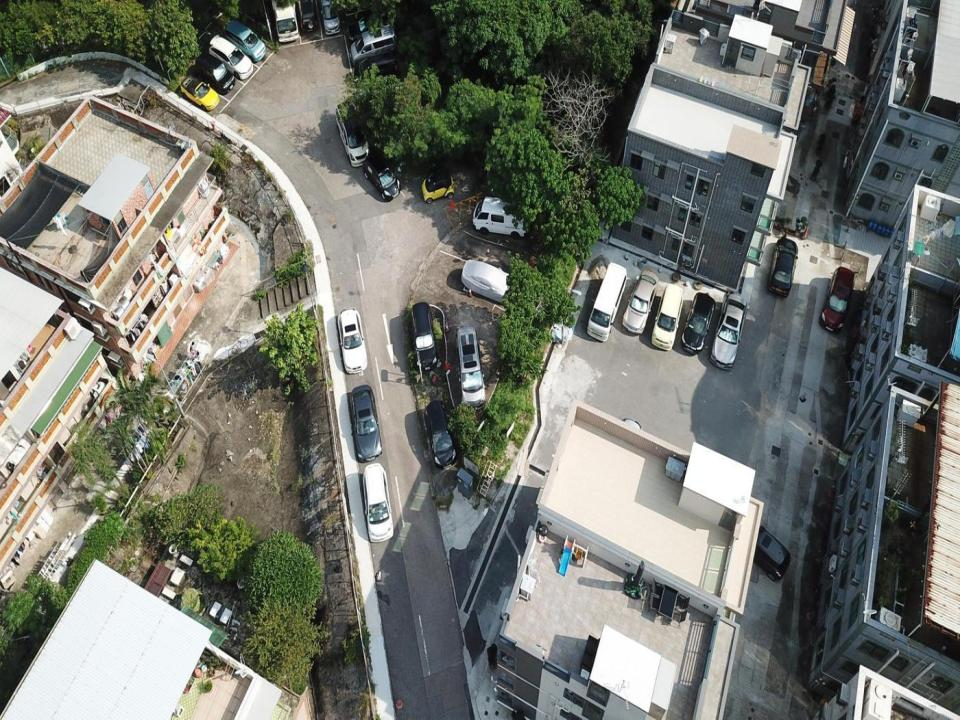bus: (587, 261, 627, 342)
car: (461, 258, 525, 305), (709, 292, 747, 370), (455, 325, 487, 411), (471, 195, 532, 240), (362, 462, 394, 543), (349, 385, 382, 463), (747, 523, 791, 581), (621, 268, 659, 334), (819, 265, 855, 334), (423, 400, 458, 470), (335, 100, 371, 167), (682, 292, 716, 354), (338, 307, 369, 374), (208, 34, 253, 79), (410, 301, 438, 372), (611, 417, 642, 478), (363, 153, 401, 201), (225, 19, 266, 63), (768, 237, 798, 297), (347, 8, 398, 43), (195, 51, 235, 95), (353, 49, 400, 84), (180, 74, 220, 111), (421, 167, 455, 204), (320, 0, 342, 35), (297, 0, 319, 33)
truck: (271, 0, 300, 43)
van: (650, 282, 684, 351), (349, 22, 398, 68)
